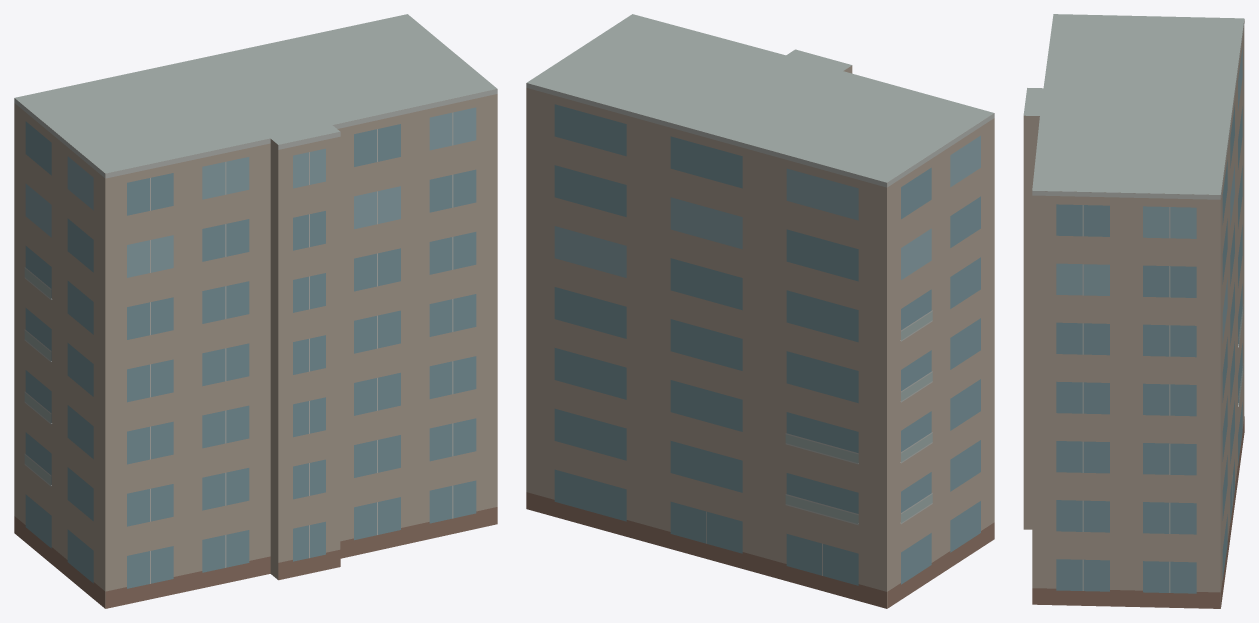
File: survey-upis-32552470.glb
3 views of the same model, side by side, from view 1: azimuth 30°, elevation 25°; view 2: azimuth 150°, elevation 25°; view 3: azimuth 270°, elevation 25° (orthographic). The views are drawn at different scales.
Visible parts, largest first — view 1: survey-upis-32552470.tmp; view 2: survey-upis-32552470.tmp; view 3: survey-upis-32552470.tmp.
Part boxes in pixels (<box>): survey-upis-32552470.tmp: <box>14,14,497,608</box>; survey-upis-32552470.tmp: <box>526,14,994,608</box>; survey-upis-32552470.tmp: <box>1023,14,1244,608</box>.
Size of the model in its own units: 20.04 by 21.35 by 10.34.
